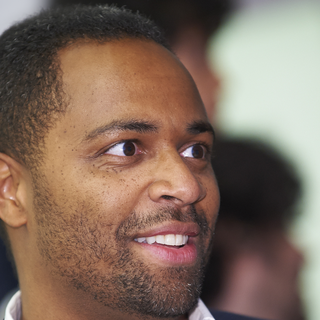eye: (94, 134, 148, 162), (176, 138, 210, 163)
